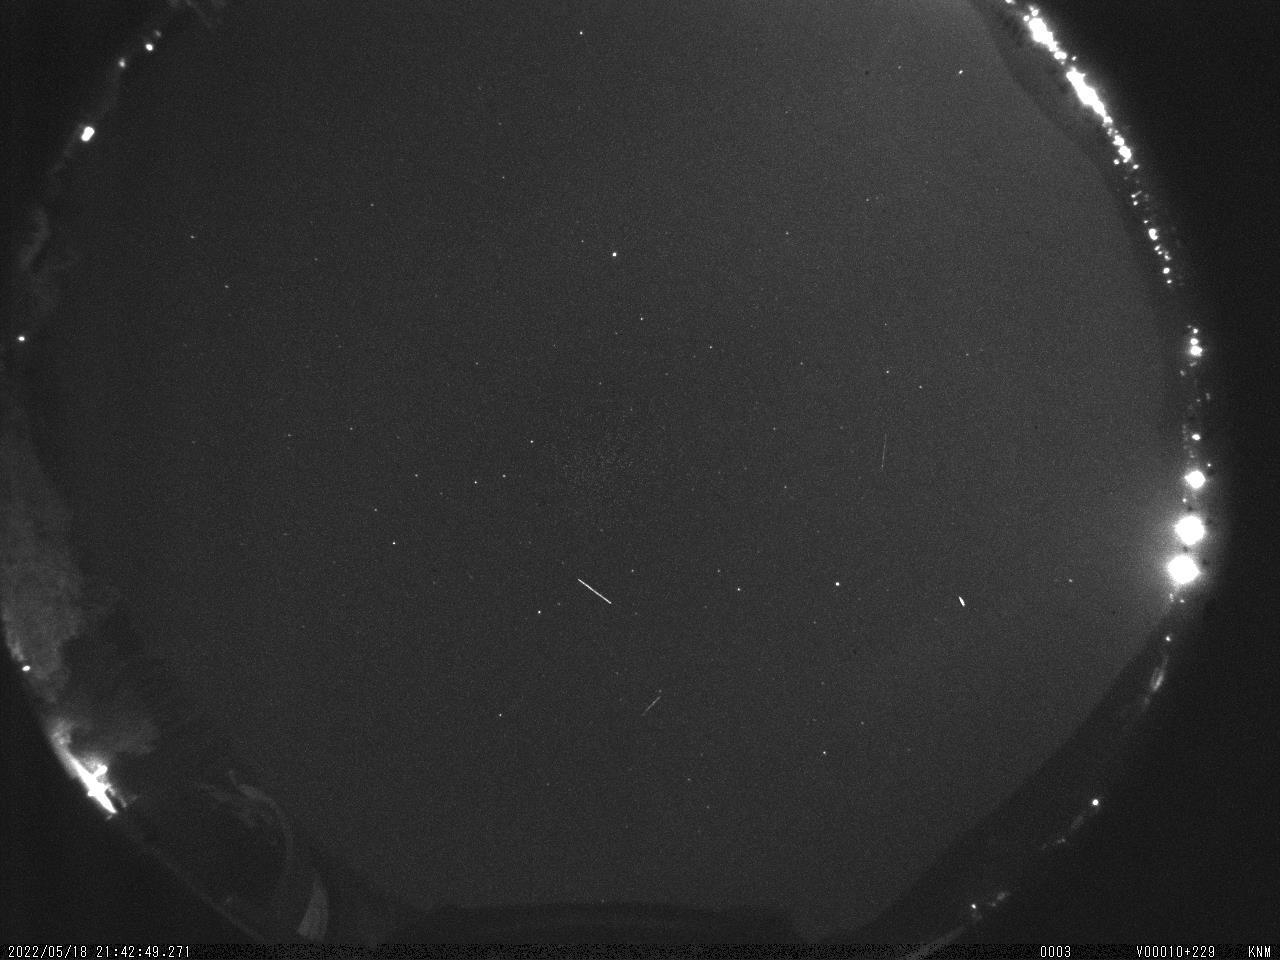Meteor: (635, 681, 672, 726), (574, 573, 615, 605)
